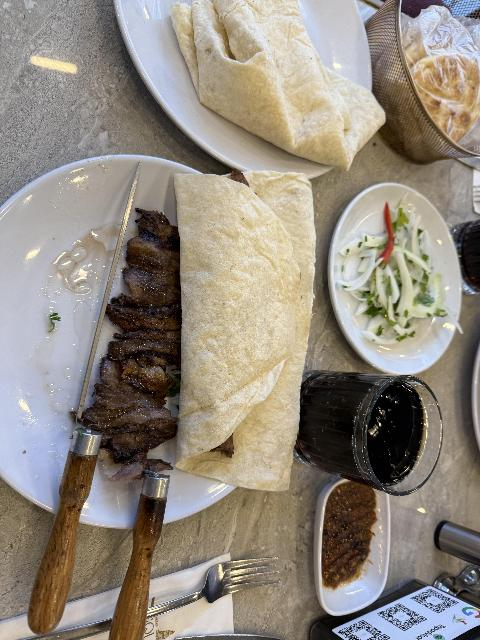Metal: (66, 167, 143, 429)
Organik: (186, 173, 301, 474), (118, 244, 182, 434)
